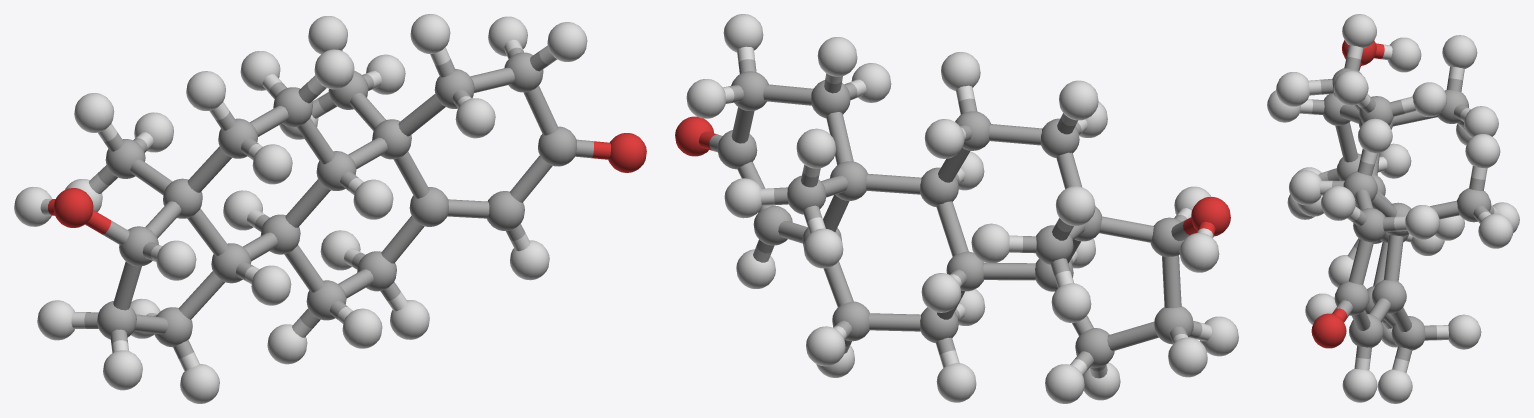
Rendered from testosterone-bas.glb.
3 renders of one model, left to right at view 1: azimuth 30°, elevation 25°; view 2: azimuth 150°, elevation 25°; view 3: azimuth 270°, elevation 25°, orthographic. The views are drawn at different scales.
Parts seen in each view (by area): view 1: testosterone-bas; view 2: testosterone-bas; view 3: testosterone-bas.
Boxes of the visible parts, x1,y1,x2,y2 form: testosterone-bas: (14,14,646,403); testosterone-bas: (675,14,1238,403); testosterone-bas: (1267,14,1519,403).
Size of the model in its own units: 11.74 by 6.43 by 5.05.
